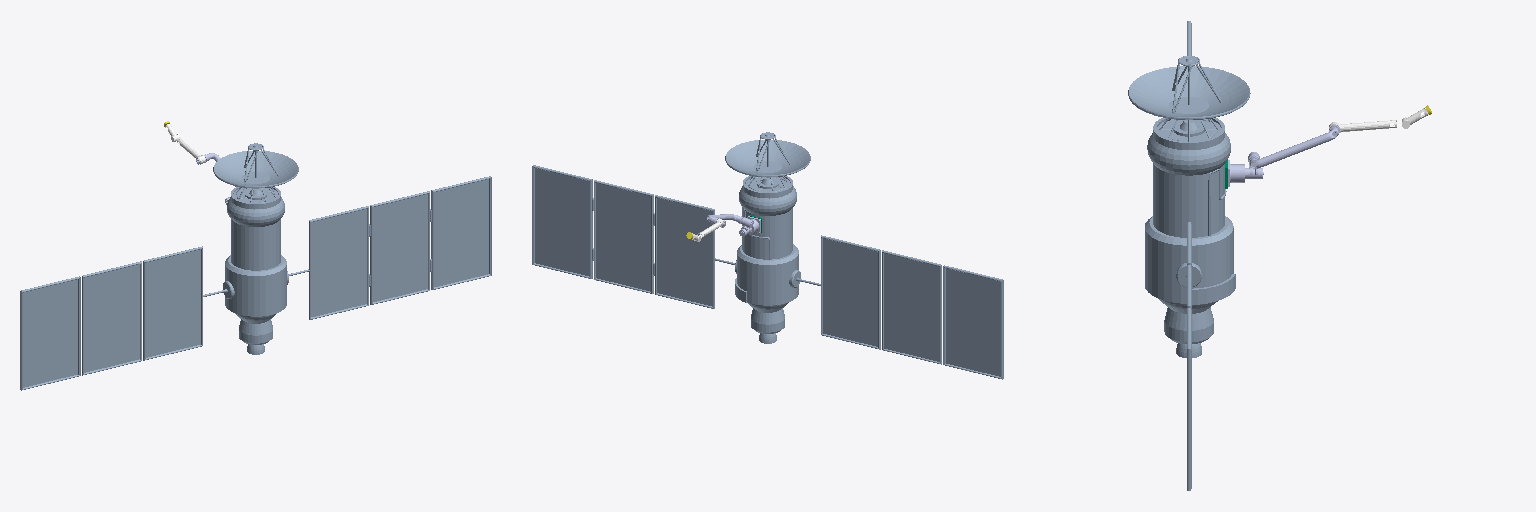
URDF robot description (satellite_4__starlink_sldasm9):
<?xml version='1.0' encoding='utf-8'?>
<robot name="satellite_4__starlink_sldasm9">
  <link name="base_link">
    <visual>
      <geometry>
        <mesh filename="../satellites/satellite_4/satellite.stl" scale="1 1 1" />
      </geometry>
      <material name="satellite_body_color">
        <color rgba="0.65 0.72 0.8 1" />
      </material>
    </visual>
    <collision>
      <geometry>
        <mesh filename="../satellites/satellite_4/satellite.stl" scale="1 1 1" />
      </geometry>
    </collision>
  </link>
  <link name="satellite_4_mount" />
  <joint name="satellite_mount_fixed" type="fixed">
    <parent link="base_link" />
    <child link="satellite_4_mount" />
    <origin xyz="0 0.5000001517447981 0.8" rpy="-1.5707963267948966 0.0 0.0" />
  </joint>
  <link name="concept_mount_pad">
    <visual>
      <origin xyz="0 0 0.015" />
      <geometry>
        <box size=".32 .32 .03" />
      </geometry>
    </visual>
    <collision>
      <origin xyz="0 0 0.015" />
      <geometry>
        <box size=".32 .32 .03" />
      </geometry>
    </collision>
  </link>
  <joint name="pad_fixed" type="fixed">
    <parent link="satellite_4_mount" />
    <child link="concept_mount_pad" />
    <origin xyz="0 0 0" rpy="0 0 0" />
  </joint>
  <joint name="arm_adapter_fixed" type="fixed">
    <parent link="satellite_4_mount" />
    <child link="starlink_space_manipulator_base_link" />
    <origin xyz="0.009087204933166504 0.008519247174263 0.15000000208616263" rpy="-1.5707963267948966 0 0" />
  </joint>
  <link name="starlink_space_manipulator_base_link">
    <inertial>
      <origin xyz="-0.00908719924946466 0.0225428225681148 -0.00851924929637313" rpy="0 0 0" />
      <mass value="8.66024015898073" />
      <inertia ixx="0.0960303512697639" ixy="1.65511904636803E-18" ixz="6.22039820639877E-19" iyy="0.103454922260914" iyz="-9.68471289978311E-19" izz="0.0960303512697639" />
    </inertial>
    <visual>
      <origin xyz="0 0 0" rpy="0 0 0" />
      <geometry>
        <mesh filename="../arms/starlink_sldasm9/meshes/starlink_space_manipulator_base_link.STL" />
      </geometry>
      <material name="">
        <color rgba="0.792156862745098 0.819607843137255 0.933333333333333 1" />
      </material>
    </visual>
    <collision>
      <origin xyz="0 0 0" rpy="0 0 0" />
      <geometry>
        <mesh filename="../arms/starlink_sldasm9/meshes/starlink_space_manipulator_base_link.STL" />
      </geometry>
    </collision>
  </link>
  <link name="starlink_space_manipulator_Shoulder_link_1">
    <inertial>
      <origin xyz="-0.000399471745595769 -0.100006574194712 -0.17423940484461" rpy="0 0 0" />
      <mass value="5.16309216784981" />
      <inertia ixx="0.0524543852135592" ixy="0.00348154867667969" ixz="6.96526910910627E-05" iyy="0.0306595326318824" iyz="-0.00056674368052247" izz="0.0439979075615329" />
    </inertial>
    <visual>
      <origin xyz="0 0 0" rpy="0 0 0" />
      <geometry>
        <mesh filename="../arms/starlink_sldasm9/meshes/starlink_space_manipulator_Shoulder_link_1.STL" />
      </geometry>
      <material name="">
        <color rgba="0.792156862745098 0.819607843137255 0.933333333333333 1" />
      </material>
    </visual>
    <collision>
      <origin xyz="0 0 0" rpy="0 0 0" />
      <geometry>
        <mesh filename="../arms/starlink_sldasm9/meshes/starlink_space_manipulator_Shoulder_link_1.STL" />
      </geometry>
    </collision>
  </link>
  <joint name="starlink_space_manipulator_Shoulder_link_1_yaw" type="revolute">
    <origin xyz="-0.0090872 -0.065 -0.0085192" rpy="1.5708 -0.15574 3.1416" />
    <parent link="starlink_space_manipulator_base_link" />
    <child link="starlink_space_manipulator_Shoulder_link_1" />
    <axis xyz="0 0 -1" />
    <limit lower="-3.14" upper="3.14" effort="0" velocity="0" />
  </joint>
  <link name="starlink_space_manipulator_Upper_arm_Link_1">
    <inertial>
      <origin xyz="0.402106341472203 -0.696465272634528 -0.170177523085579" rpy="0 0 0" />
      <mass value="5.05309869040685" />
      <inertia ixx="0.388719013133801" ixy="0.210155896498943" ixz="9.30829370680679E-08" iyy="0.146049057575642" iyz="1.71830458004218E-07" izz="0.500677708275447" />
    </inertial>
    <visual>
      <origin xyz="0 0 0" rpy="0 0 0" />
      <geometry>
        <mesh filename="../arms/starlink_sldasm9/meshes/starlink_space_manipulator_Upper_arm_Link_1.STL" />
      </geometry>
      <material name="">
        <color rgba="0.792156862745098 0.819607843137255 0.933333333333333 1" />
      </material>
    </visual>
    <collision>
      <origin xyz="0 0 0" rpy="0 0 0" />
      <geometry>
        <mesh filename="../arms/starlink_sldasm9/meshes/starlink_space_manipulator_Upper_arm_Link_1.STL" />
      </geometry>
    </collision>
  </link>
  <joint name="starlink_space_manipulator_Upper_arm_Link_1_roll" type="revolute">
    <origin xyz="0 -0.2 -0.18" rpy="1.5708 0.90646 1.5708" />
    <parent link="starlink_space_manipulator_Shoulder_link_1" />
    <child link="starlink_space_manipulator_Upper_arm_Link_1" />
    <axis xyz="0 0 -1" />
    <limit lower="-2" upper="1.5" effort="0" velocity="0" />
  </joint>
  <link name="starlink_space_manipulator_Mid_arm_Link_1">
    <inertial>
      <origin xyz="-0.000406052776441013 0.317722269561105 0.0155331755135703" rpy="0 0 0" />
      <mass value="1.57635531881168" />
      <inertia ixx="0.133610363618846" ixy="5.33750993405138E-05" ixz="-3.60473795202962E-09" iyy="0.00502119434334708" iyz="-2.514275749911E-05" izz="0.134586018527477" />
    </inertial>
    <visual>
      <origin xyz="0 0 0" rpy="0 0 0" />
      <geometry>
        <mesh filename="../arms/starlink_sldasm9/meshes/starlink_space_manipulator_Mid_arm_Link_1.STL" />
      </geometry>
      <material name="">
        <color rgba="1 1 1 1" />
      </material>
    </visual>
    <collision>
      <origin xyz="0 0 0" rpy="0 0 0" />
      <geometry>
        <mesh filename="../arms/starlink_sldasm9/meshes/starlink_space_manipulator_Mid_arm_Link_1.STL" />
      </geometry>
    </collision>
  </link>
  <joint name="starlink_space_manipulator_Mid_arm_Link_1_roll" type="revolute">
    <origin xyz="0.599999999999673 -1.03923048454122 0" rpy="-3.14159265358979 0 0.828250280535091" />
    <parent link="starlink_space_manipulator_Upper_arm_Link_1" />
    <child link="starlink_space_manipulator_Mid_arm_Link_1" />
    <axis xyz="0 0 -1" />
    <limit lower="-3.14" upper="3.14" effort="0" velocity="0" />
  </joint>
  <link name="starlink_space_manipulator_Upper_wrist_Link_1">
    <inertial>
      <origin xyz="-0.000400003664721815 -0.201565878030355 -0.00216705855311664" rpy="0 0 0" />
      <mass value="0.994770641034713" />
      <inertia ixx="0.00165409639029414" ixy="-7.59103925411082E-06" ixz="-3.17403155320863E-06" iyy="0.00201437937768072" iyz="2.63246464091218E-06" izz="0.00159638838344539" />
    </inertial>
    <visual>
      <origin xyz="0 0 0" rpy="0 0 0" />
      <geometry>
        <mesh filename="../arms/starlink_sldasm9/meshes/starlink_space_manipulator_Upper_wrist_Link_1.STL" />
      </geometry>
      <material name="">
        <color rgba="0.792156862745098 0.819607843137255 0.933333333333333 1" />
      </material>
    </visual>
    <collision>
      <origin xyz="0 0 0" rpy="0 0 0" />
      <geometry>
        <mesh filename="../arms/starlink_sldasm9/meshes/starlink_space_manipulator_Upper_wrist_Link_1.STL" />
      </geometry>
    </collision>
  </link>
  <joint name="starlink_space_manipulator_Upper_wrist_Link_1_yaw" type="revolute">
    <origin xyz="-0.00050155183276912 0.686793643713439 0.0155010481432086" rpy="0 -0.0763876794035917 3.14159265358979" />
    <parent link="starlink_space_manipulator_Mid_arm_Link_1" />
    <child link="starlink_space_manipulator_Upper_wrist_Link_1" />
    <axis xyz="0 -1 0" />
    <limit lower="-3.14" upper="3.14" effort="0" velocity="0" />
  </joint>
  <link name="starlink_space_manipulator_Upper_wrist_Link_2">
    <inertial>
      <origin xyz="8.45304168883843E-08 0.0848318719623631 -0.00515657391755576" rpy="0 0 0" />
      <mass value="1.03716823037577" />
      <inertia ixx="0.0100970561498589" ixy="1.32295633551837E-09" ixz="-9.43675929999229E-09" iyy="0.00222325407426665" iyz="-2.08772874866187E-06" izz="0.0105840577017538" />
    </inertial>
    <visual>
      <origin xyz="0 0 0" rpy="0 0 0" />
      <geometry>
        <mesh filename="../arms/starlink_sldasm9/meshes/starlink_space_manipulator_Upper_wrist_Link_2.STL" />
      </geometry>
      <material name="">
        <color rgba="1 1 1 1" />
      </material>
    </visual>
    <collision>
      <origin xyz="0 0 0" rpy="0 0 0" />
      <geometry>
        <mesh filename="../arms/starlink_sldasm9/meshes/starlink_space_manipulator_Upper_wrist_Link_2.STL" />
      </geometry>
    </collision>
  </link>
  <joint name="starlink_space_manipulator_Upper_wrist_Link_2_roll" type="revolute">
    <origin xyz="0 -0.30020635628656 0" rpy="-0.0158640776811277 -0.0317448426184613 -2.67805461574742" />
    <parent link="starlink_space_manipulator_Upper_wrist_Link_1" />
    <child link="starlink_space_manipulator_Upper_wrist_Link_2" />
    <axis xyz="0 0 1" />
    <limit lower="-2.5" upper="1.8" effort="0" velocity="0" />
  </joint>
  <link name="starlink__space_manipulator_2F-Body_Link">
    </link>
  <joint name="starlink__space_manipulator_2F-Body_Link_yaw" type="revolute">
    <origin xyz="0 0.34845 -0.0053813" rpy="-3.1416 0.93592 0" />
    <parent link="starlink_space_manipulator_Upper_wrist_Link_2" />
    <child link="starlink__space_manipulator_2F-Body_Link" />
    <axis xyz="0 -1 0" />
    <limit lower="-3.14" upper="3.14" effort="0" velocity="0" />
  </joint>
  <link name="angular_hand">
    <visual>
      <geometry>
        <mesh filename="../arms/starlink_sldasm9/meshes/hand_2finger.STL" scale="2 2 2" />
      </geometry>
    </visual>
    <collision>
      <geometry>
        <mesh filename="../arms/starlink_sldasm9/meshes/hand_2finger.STL" scale="2 2 2" />
      </geometry>
    </collision>
  </link>
  <joint name="angular_hand_fixed" type="fixed">
    <parent link="starlink__space_manipulator_2F-Body_Link" />
    <child link="angular_hand" />
    <origin xyz="0 -0.036 0" rpy="-1.5707963267948966 0 0" />
  </joint>
  <link name="angular_adapter">
    <visual>
      <geometry>
        <mesh filename="../arms/starlink_sldasm9/meshes/angular_adapter.stl" />
      </geometry>
    </visual>
    <collision>
      <geometry>
        <mesh filename="../arms/starlink_sldasm9/meshes/angular_adapter.stl" />
      </geometry>
    </collision>
  </link>
  <joint name="angular_adapter_fixed" type="fixed">
    <parent link="starlink__space_manipulator_2F-Body_Link" />
    <child link="angular_adapter" />
    <origin xyz="0 -0.0005 0" rpy="1.5707963267948966 0 0" />
  </joint>
  <link name="angular_finger_1">
    <visual>
      <geometry>
        <mesh filename="../arms/starlink_sldasm9/meshes/finger_proximal.STL" scale="2 2 2" />
      </geometry>
    </visual>
    <collision>
      <geometry>
        <mesh filename="../arms/starlink_sldasm9/meshes/finger_proximal.STL" scale="2 2 2" />
      </geometry>
    </collision>
  </link>
  <link name="angular_tip_1">
    <visual>
      <geometry>
        <mesh filename="../arms/starlink_sldasm9/meshes/finger_distal.STL" scale="2 2 2" />
      </geometry>
    </visual>
    <collision>
      <geometry>
        <mesh filename="../arms/starlink_sldasm9/meshes/finger_distal.STL" scale="2 2 2" />
      </geometry>
    </collision>
  </link>
  <joint name="angular_joint_1" type="revolute">
    <parent link="angular_hand" />
    <child link="angular_finger_1" />
    <axis xyz="0 0 1" />
    <origin xyz="-0.005 0.0619 -0.22964" rpy="-1.570796327 .649262481663582 1.5707963267948966" />
    <limit lower="0" upper="1.51" effort="2" velocity="1" />
  </joint>
  <joint name="angular_joint_tip_1" type="revolute">
    <parent link="angular_finger_1" />
    <child link="angular_tip_1" />
    <axis xyz="0 0 1" />
    <origin xyz="0.088 -0.006 0.0" rpy="0 0 0" />
    <limit lower="0" upper="2" effort="2" velocity="1" />
  </joint>
  <link name="angular_finger_2">
    <visual>
      <geometry>
        <mesh filename="../arms/starlink_sldasm9/meshes/finger_proximal.STL" scale="2 2 2" />
      </geometry>
    </visual>
    <collision>
      <geometry>
        <mesh filename="../arms/starlink_sldasm9/meshes/finger_proximal.STL" scale="2 2 2" />
      </geometry>
    </collision>
  </link>
  <link name="angular_tip_2">
    <visual>
      <geometry>
        <mesh filename="../arms/starlink_sldasm9/meshes/finger_distal.STL" scale="2 2 2" />
      </geometry>
    </visual>
    <collision>
      <geometry>
        <mesh filename="../arms/starlink_sldasm9/meshes/finger_distal.STL" scale="2 2 2" />
      </geometry>
    </collision>
  </link>
  <joint name="angular_joint_2" type="revolute">
    <parent link="angular_hand" />
    <child link="angular_finger_2" />
    <axis xyz="0 0 1" />
    <origin xyz="-0.005 -0.0619 -0.22964" rpy="-1.570796327 .649262481663582 -1.5707963267948966" />
    <limit lower="0" upper="1.51" effort="2" velocity="1" />
  </joint>
  <joint name="angular_joint_tip_2" type="revolute">
    <parent link="angular_finger_2" />
    <child link="angular_tip_2" />
    <axis xyz="0 0 1" />
    <origin xyz="0.088 -0.006 0.0" rpy="0 0 0" />
    <limit lower="0" upper="2" effort="2" velocity="1" />
  </joint>
  <link name="angular_tcp" />
  <joint name="angular_tcp_fixed" type="fixed">
    <parent link="angular_hand" />
    <child link="angular_tcp" />
    <origin xyz="-0.005 0 -0.34" rpy="3.141592653589793 0 0" />
  </joint>
</robot>

--- Facts derived from the render (not from the file) ---
The picture shows the robot from 3 angles, left to right: view 1: azimuth 30°, elevation 25°; view 2: azimuth 150°, elevation 25°; view 3: azimuth 270°, elevation 25°; orthographic projection.
Robot: satellite_4__starlink_sldasm9 — 17 links, 16 joints (10 revolute, 6 fixed); root link base_link; default pose: all joints at 0.
Links seen in each view (by area): view 1: base_link; view 2: base_link; view 3: base_link, starlink_space_manipulator_Upper_arm_Link_1.
Boxes of the visible links, x1,y1,x2,y2 form: base_link: (20,143,491,390); base_link: (532,132,1003,379); base_link: (1128,21,1250,490); starlink_space_manipulator_Upper_arm_Link_1: (1250,125,1339,168).
Size in the robot's own frame: 10.73 by 4.2 by 4.48 metres.
7 mesh visuals loaded from 11 distinct referenced files (7 binary STL); not drawn: 6 (reference not matched to a file when rendering).
